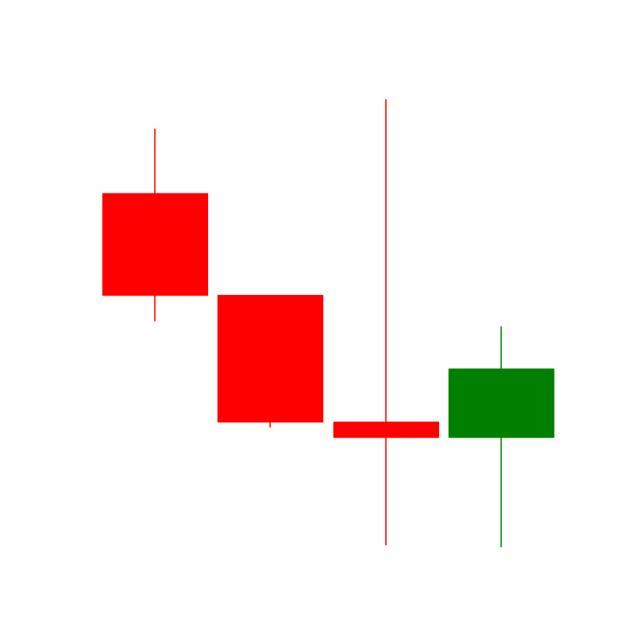Spinning Top: (329, 94, 445, 551)
